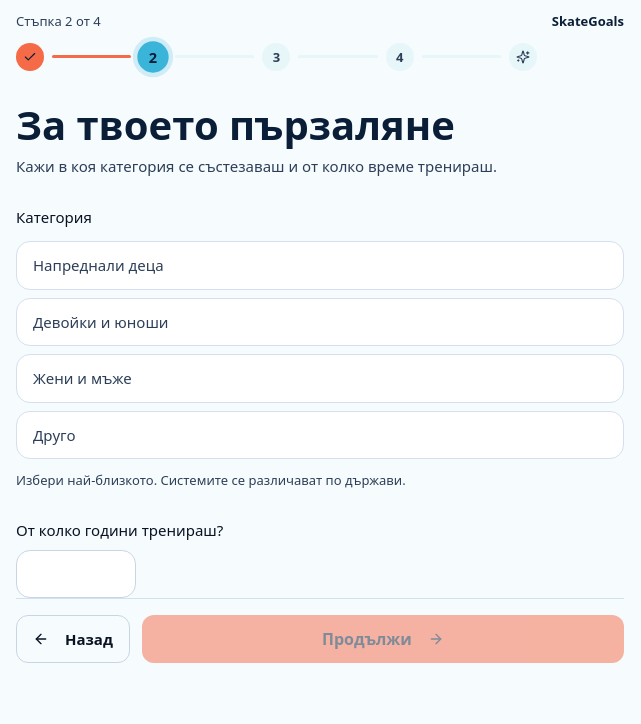
Scenario: signup welcome screen name › uses the first word of a full name typed by the skater
Earlier steps of the test are not shown.
Click the button "Жени и мъже" at {"x": 82, "y": 378}, box [16, 354, 624, 403]
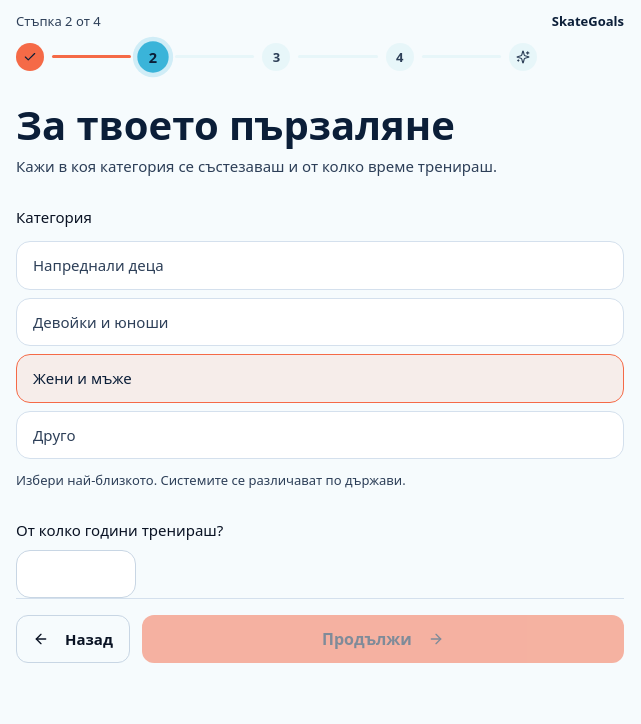
Type "9" into the number field labelled "От колко години тренираш?" at {"x": 76, "y": 574}, box [16, 550, 136, 598]
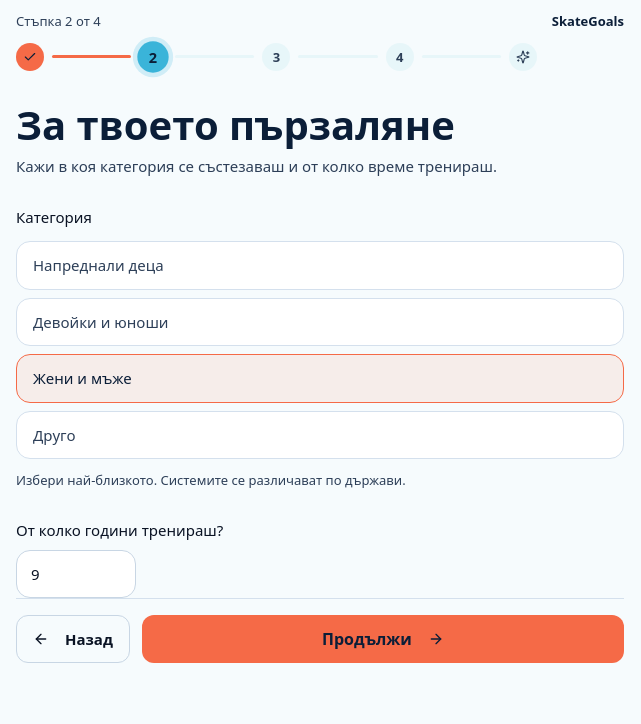
Click the button "Продължи" at {"x": 383, "y": 639}, box [142, 615, 624, 663]
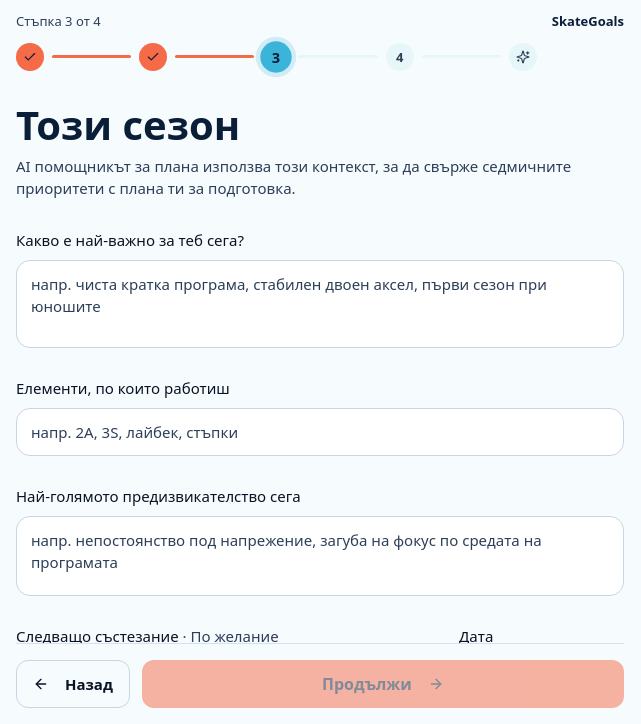
Replace the text in the text box labelled "Какво е най-важно за теб сега?" with "Free skate endurance" at {"x": 320, "y": 304}, box [16, 260, 624, 348]
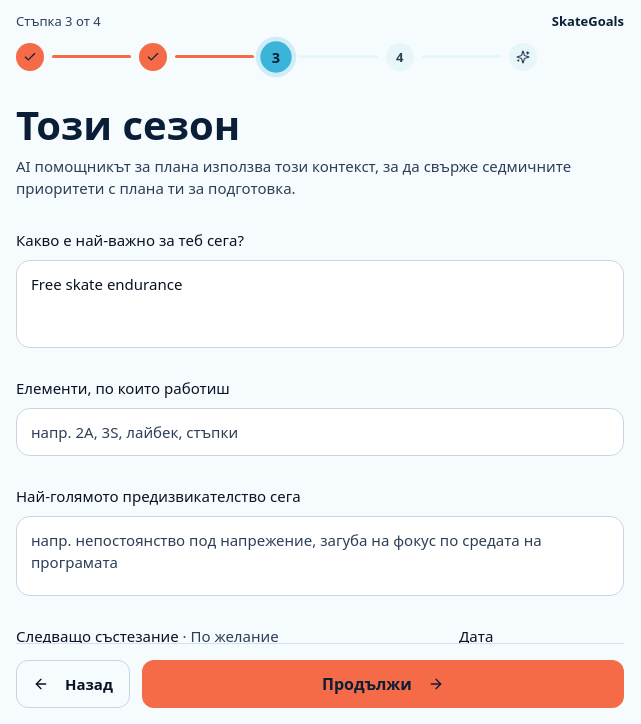
Click the button "Продължи" at {"x": 383, "y": 684}, box [142, 660, 624, 708]
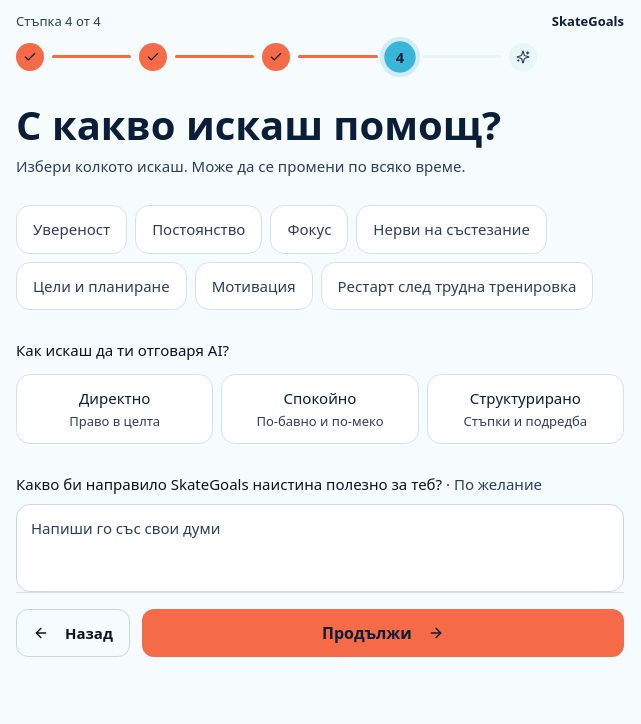
Click the button "Продължи" at {"x": 383, "y": 633}, box [142, 609, 624, 657]
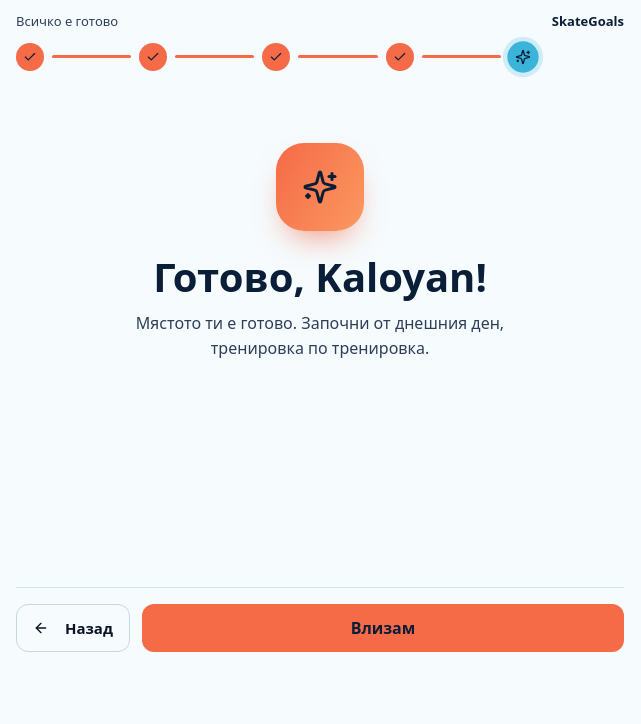
Expected: the heading "Готово, Kaloyan!" is shown, [153, 255, 487, 299]
